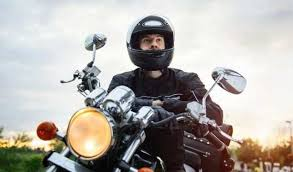com_capacete: (123, 13, 177, 72)
